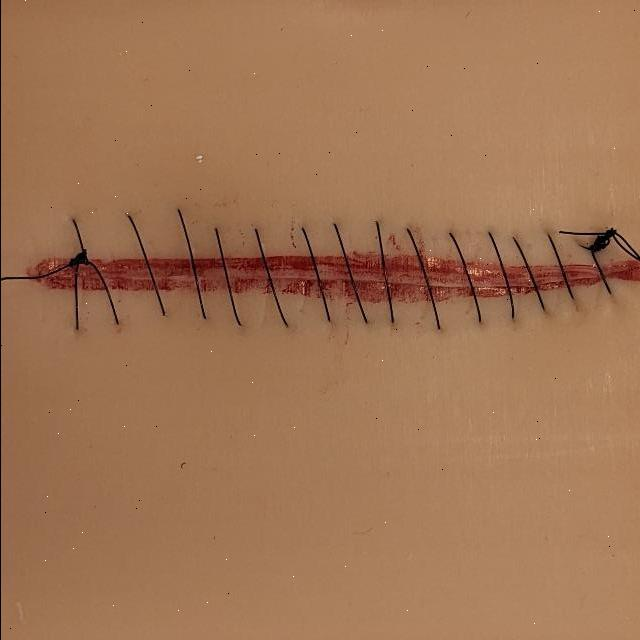knot_good: (69, 232, 96, 268)
knot_tight: (583, 211, 622, 249)
suture_good: (324, 219, 375, 336), (399, 225, 446, 338), (203, 225, 250, 336), (441, 227, 488, 333), (293, 224, 337, 330), (479, 227, 523, 329), (504, 232, 553, 320), (368, 218, 402, 331), (577, 249, 627, 323), (538, 227, 580, 308)
suture_loose: (117, 206, 173, 326), (244, 226, 297, 343), (169, 205, 213, 331)
suture_tight: (61, 271, 88, 346)
